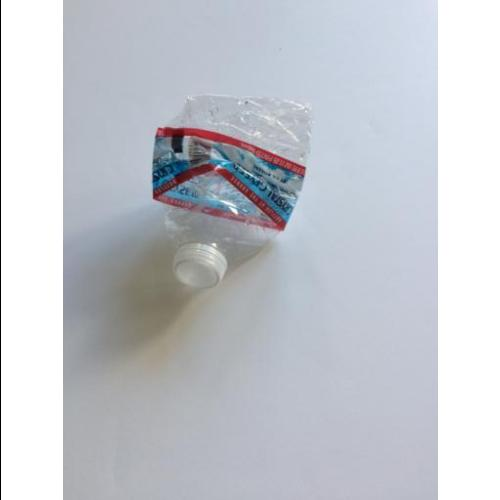plastic: (151, 94, 316, 290)
